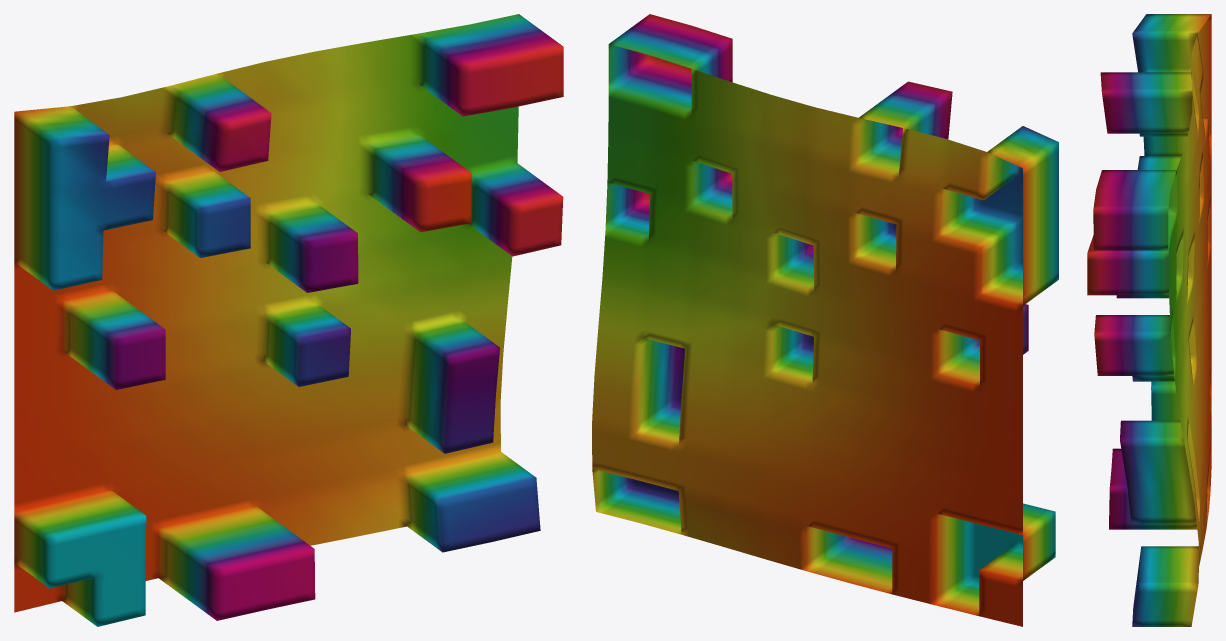
The model's file is simple_city_dense.obj.
3 views of the same model, side by side, from view 1: azimuth 30°, elevation 25°; view 2: azimuth 150°, elevation 25°; view 3: azimuth 270°, elevation 25° (orthographic). The views are drawn at different scales.
Size of the model in its own units: 23.49 by 23.49 by 6.35.
